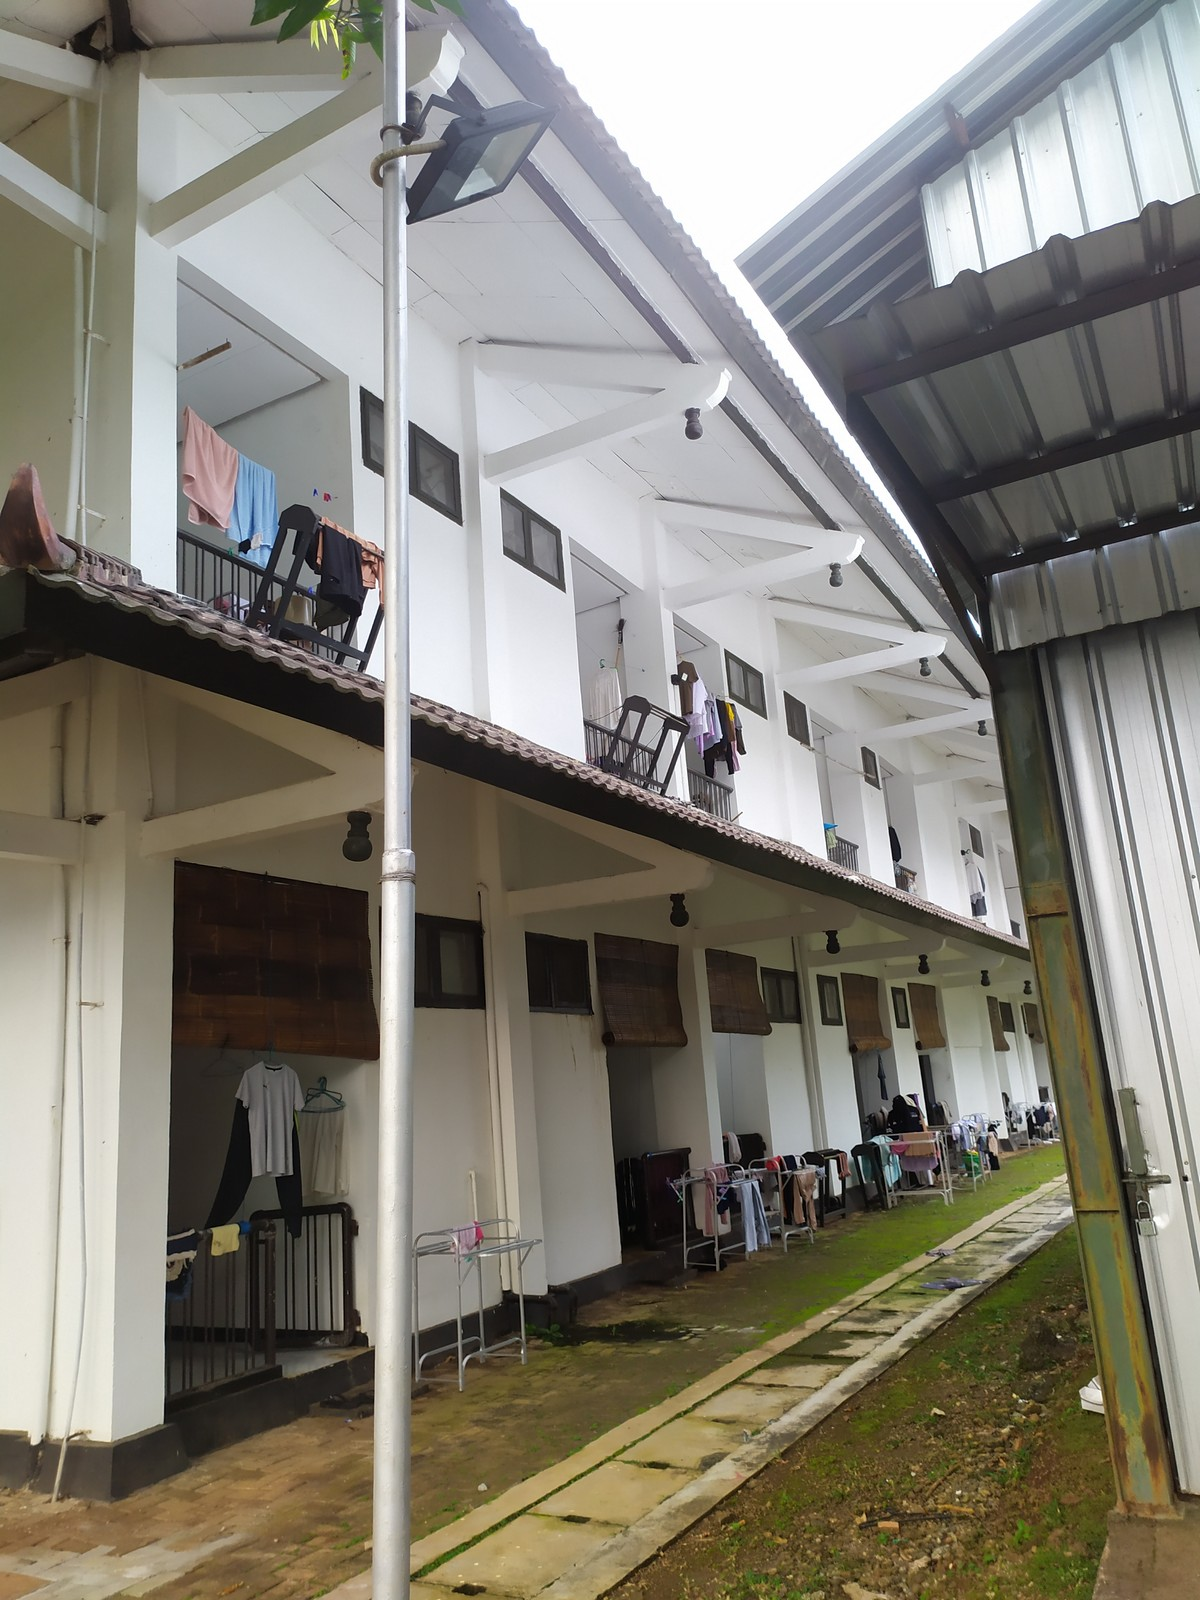concrete beam: (144, 115, 373, 253), (141, 781, 334, 866), (480, 412, 667, 486), (495, 867, 645, 922)
concrete column: (13, 656, 187, 1455), (44, 38, 192, 603), (465, 786, 558, 1313), (442, 333, 511, 719), (632, 483, 703, 810), (677, 900, 734, 1194)
